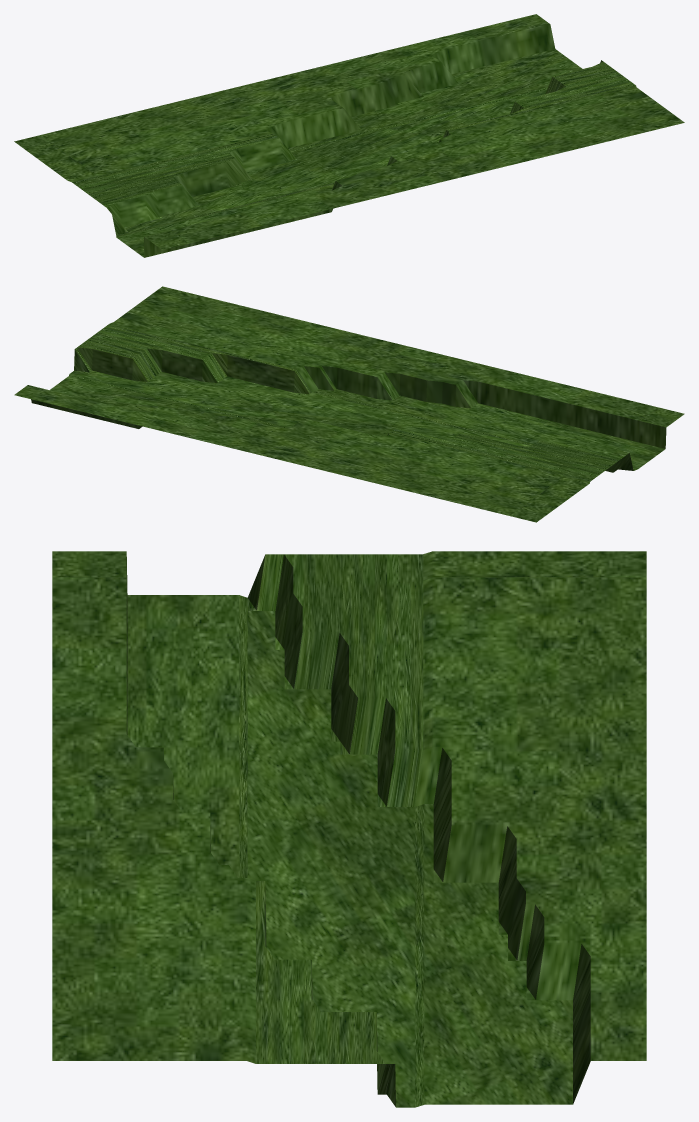
3 views of the same model, one above another, from view 1: azimuth 30°, elevation 25°; view 2: azimuth 150°, elevation 25°; view 3: azimuth 270°, elevation 25° (orthographic). The views are drawn at different scales.
Parts seen in each view (by area): view 1: Plane; view 2: Plane; view 3: Plane.
Boxes of the visible parts, left/top/right/bottom form: Plane: left=14, top=14, right=684, bottom=257; Plane: left=14, top=286, right=684, bottom=522; Plane: left=52, top=551, right=646, bottom=1107.
Bounding box in the file's own units: 61.24 × 2.46 × 30.
1 material, 1 textured.
